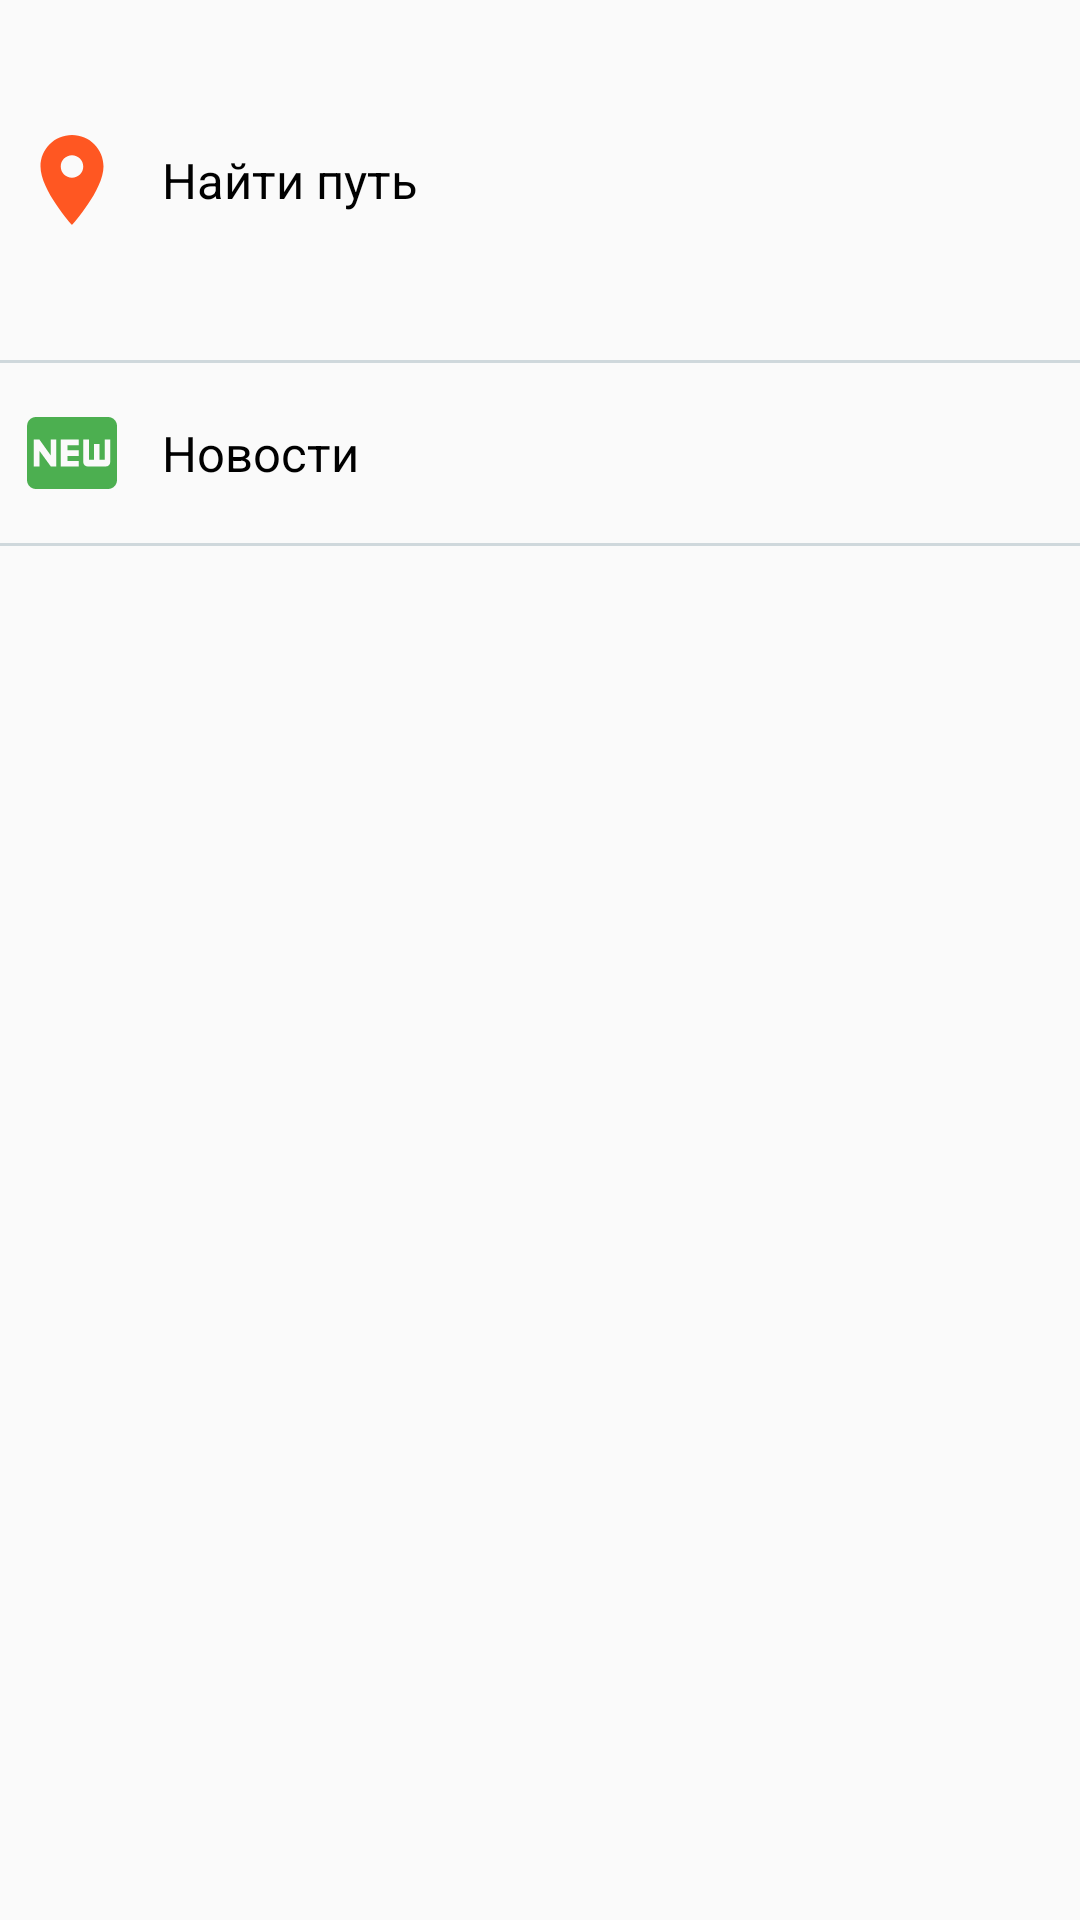

Named icons in this screenshot (1080 x 1920) and their bounding boxes, (x1, y1, x2, y2):
place: (40, 135, 104, 225)
